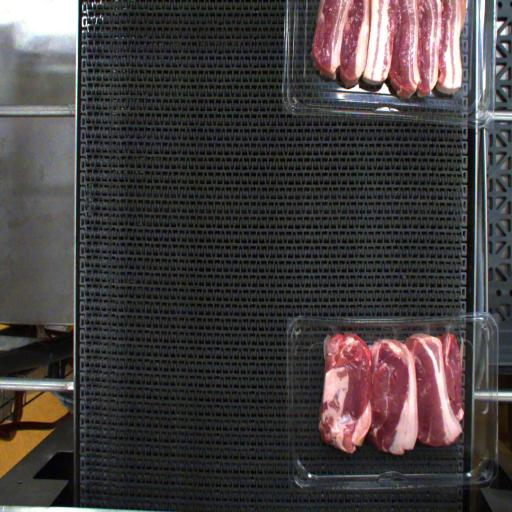packaging-error: (328, 321, 363, 337), (388, 326, 403, 345), (422, 320, 436, 338), (443, 322, 455, 336)
